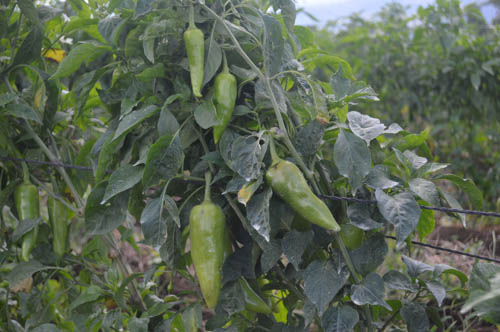ChiliPepper: (269, 162, 337, 231), (185, 205, 227, 312), (12, 184, 44, 257), (210, 74, 238, 143), (178, 30, 206, 96), (48, 197, 69, 257)
